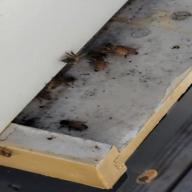Bee: (56, 46, 93, 66), (111, 42, 144, 59)
